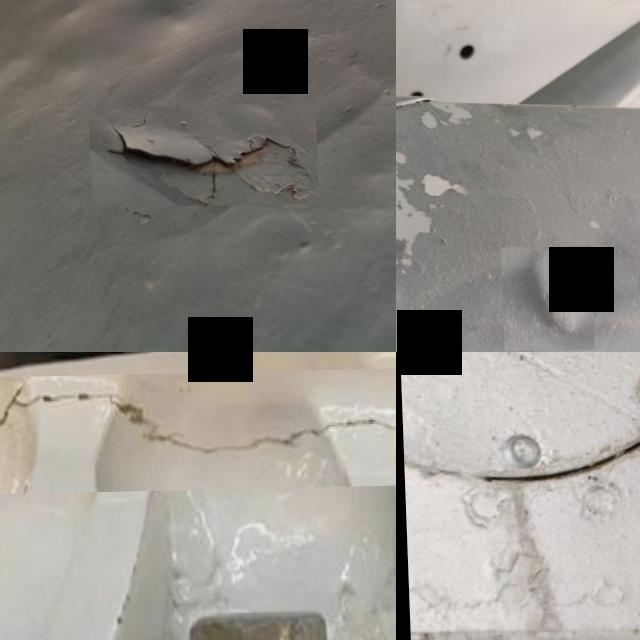Crack: (0, 378, 396, 468), (86, 106, 316, 210)
Dent: (497, 247, 590, 352), (99, 0, 227, 61)
Missing_Fastener: (618, 353, 640, 430)
